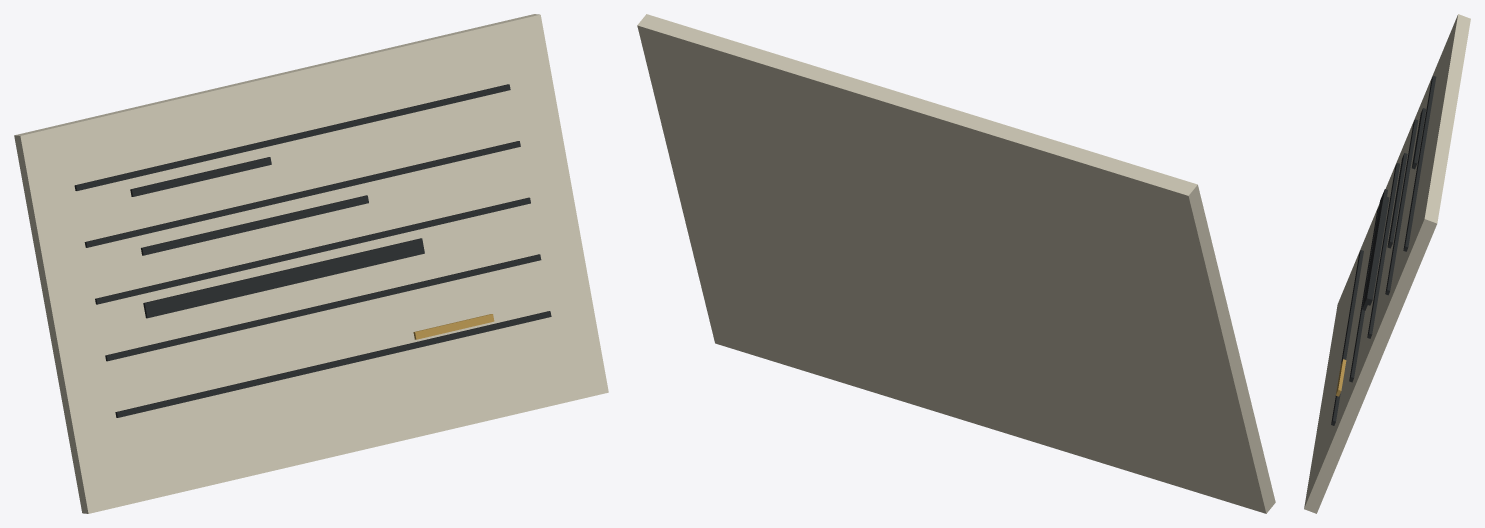
Rendered from b3-session-card.glb.
3 renders of one model, left to right at view 1: azimuth 30°, elevation 25°; view 2: azimuth 150°, elevation 25°; view 3: azimuth 270°, elevation 25°, orthographic. The views are drawn at different scales.
Visible parts, largest first — view 1: b3_session_card; view 2: b3_session_card; view 3: b3_session_card.
Part boxes in pixels (bbox=[...]): b3_session_card: bbox=[14, 14, 608, 513]; b3_session_card: bbox=[637, 14, 1275, 513]; b3_session_card: bbox=[1304, 14, 1470, 513].
Bounding box in the file's own units: 0.2998 × 0.1974 × 0.0976.
